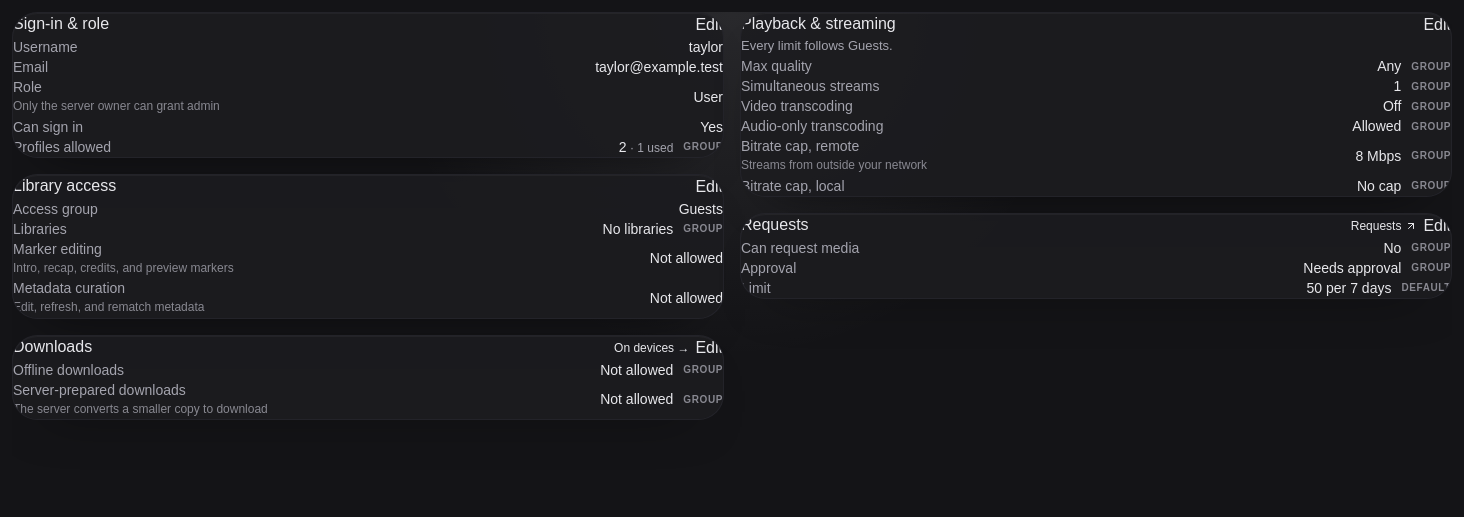
Test case: Sign-in & role › follows the draft role for the inherited profile limit
Click the button with aria-label "Edit Sign-in & role".
click(709, 25)  # box x1=695 y1=13 x2=723 y2=37
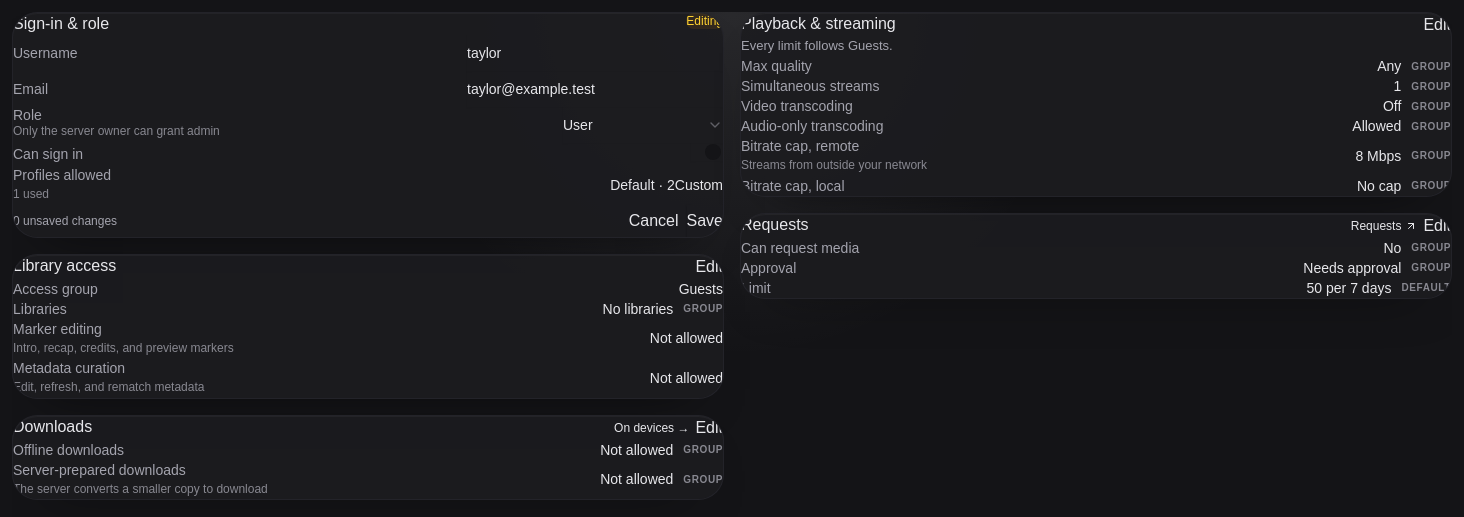
Result: the button "Default · 2" is shown at x1=610 y1=175 x2=675 y2=195
Click the dropdown named "Role".
click(643, 125)  # box x1=563 y1=107 x2=723 y2=143
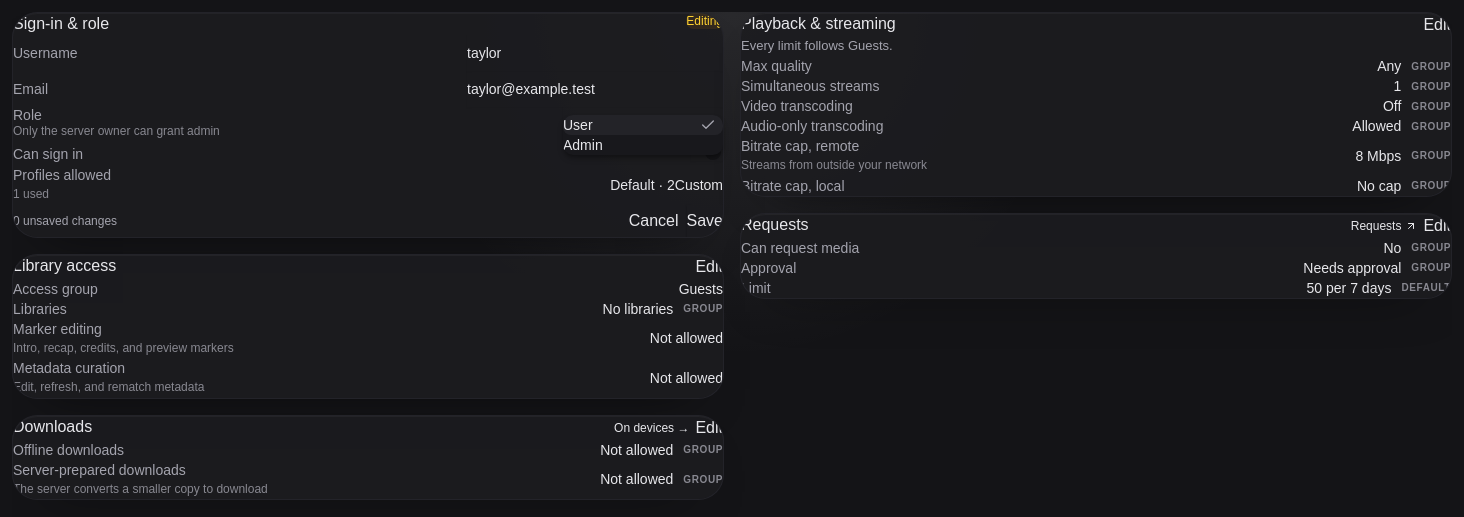
Click the option "Admin".
click(583, 145)  # box x1=563 y1=137 x2=603 y2=153
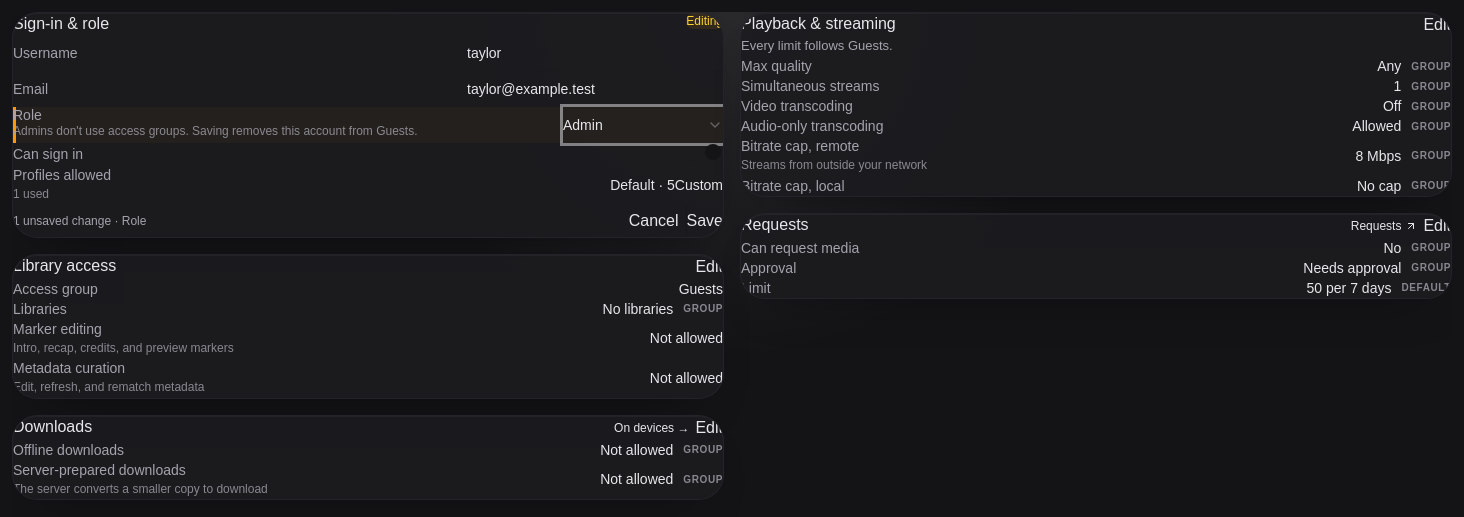
Result: the button "Default · 5" is shown at x1=610 y1=175 x2=675 y2=195
Click the button "Custom".
click(699, 185)  # box x1=675 y1=175 x2=723 y2=195
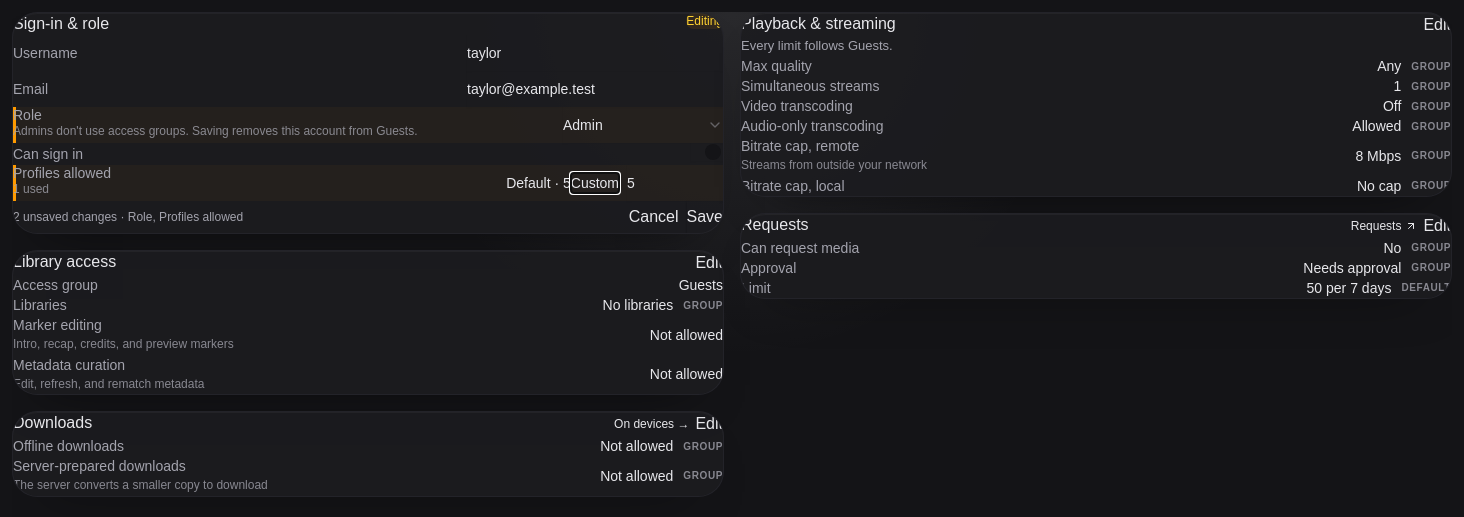
Result: the number field labelled "Profiles allowed" holds "5" at x1=627 y1=165 x2=723 y2=201
